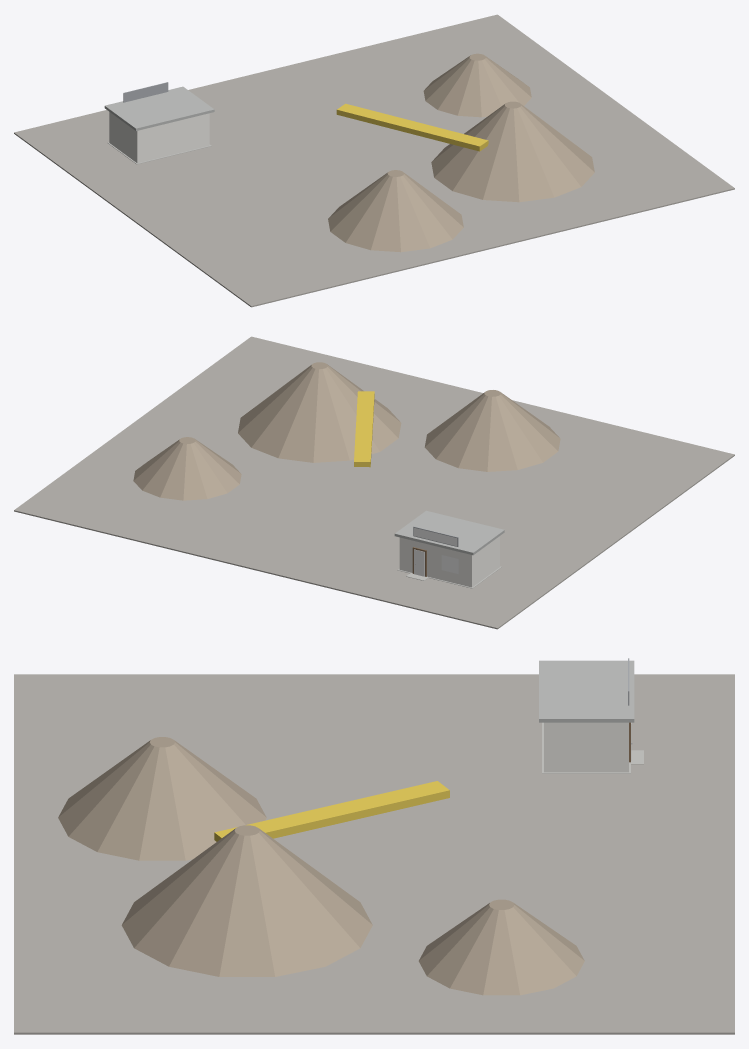
Rendered from quarry_office.glb.
3 renders of one model, top to bottom at view 1: azimuth 30°, elevation 25°; view 2: azimuth 150°, elevation 25°; view 3: azimuth 270°, elevation 25°, orthographic. The views are drawn at different scales.
Parts seen in each view (by area): view 1: quarry_office; view 2: quarry_office; view 3: quarry_office.
Boxes of the visible parts, box(x1,y1,x2,y2) form: quarry_office: box(14, 14, 734, 307); quarry_office: box(14, 336, 734, 629); quarry_office: box(14, 658, 734, 1034).
Size of what is drawn, in the model's own units: 40 by 6.9 by 34.
